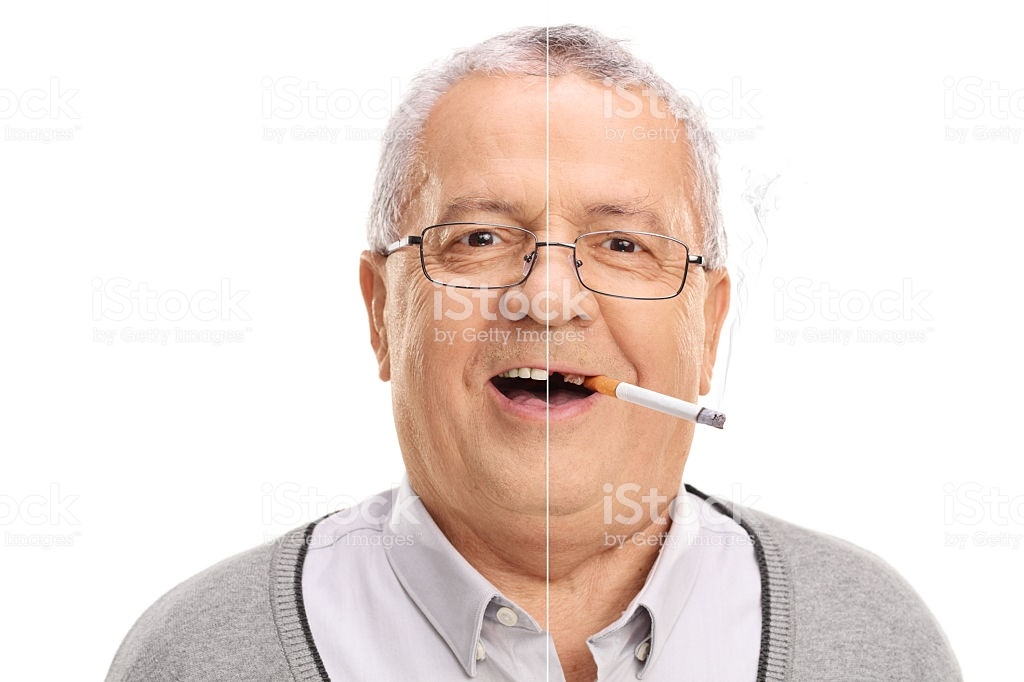sigaretta: (583, 376, 730, 435)
